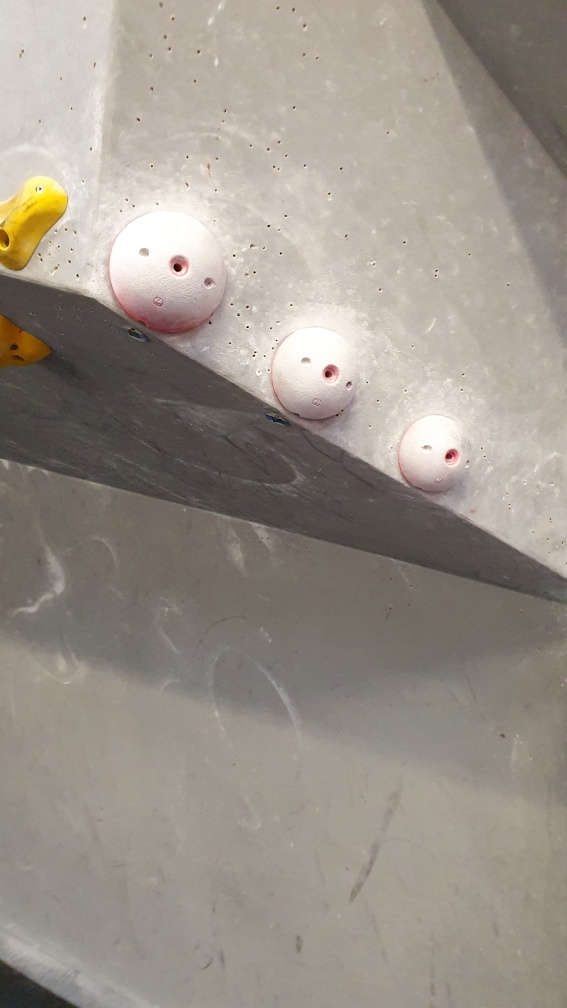Sloper: (104, 205, 234, 336), (265, 319, 364, 426), (395, 411, 478, 501)
